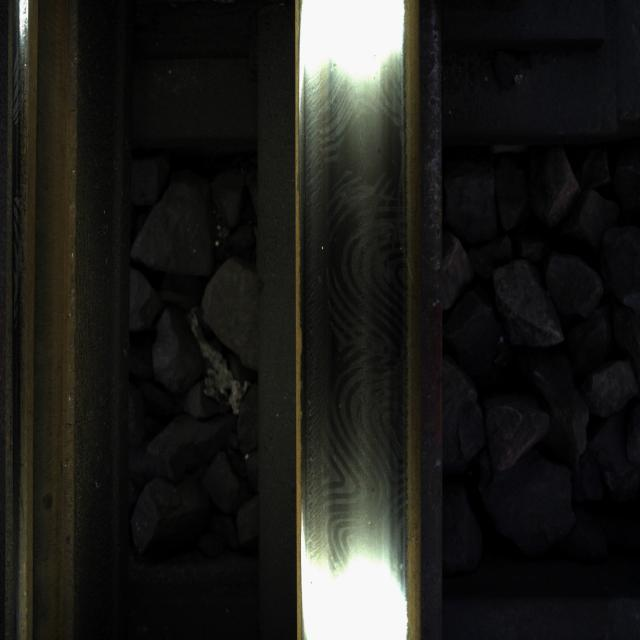break: (310, 34, 404, 578)
